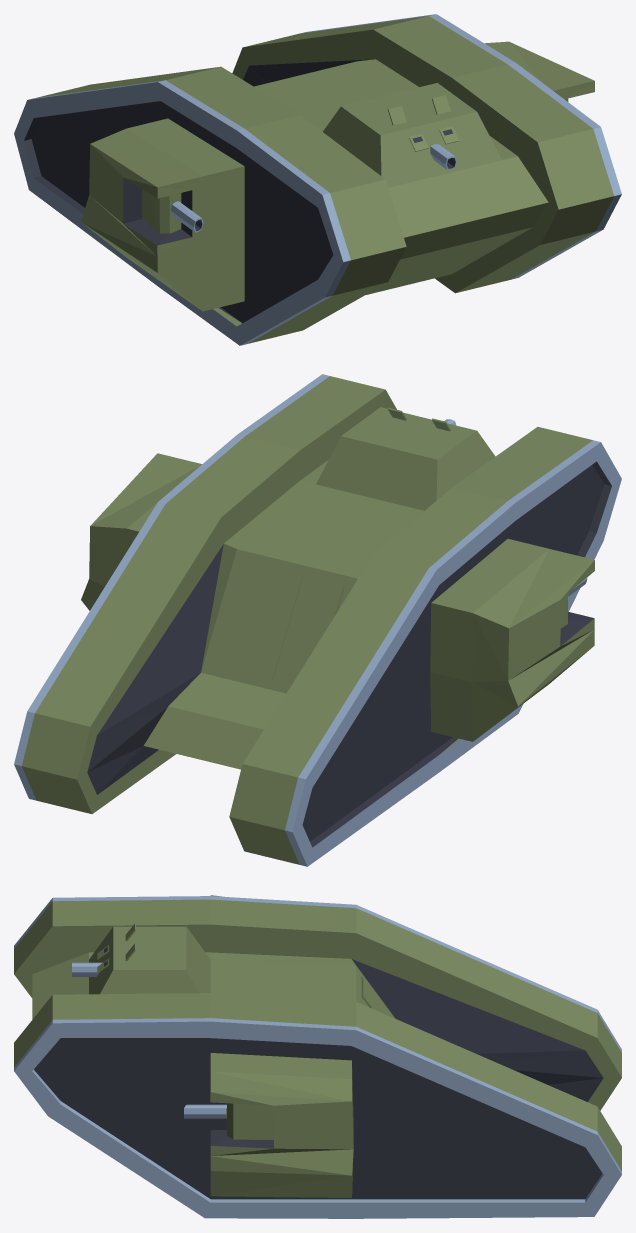
Rendered from markIVTank.fbx.
The picture shows the model from 3 angles, top to bottom: view 1: azimuth 30°, elevation 25°; view 2: azimuth 150°, elevation 25°; view 3: azimuth 270°, elevation 25°; orthographic projection. The views are drawn at different scales.
Parts seen in each view (by area): view 1: markIVTank; view 2: markIVTank; view 3: markIVTank.
Part boxes in pixels (left/top/right/bottom): markIVTank: left=14, top=14, right=621, bottom=345; markIVTank: left=14, top=374, right=621, bottom=866; markIVTank: left=14, top=895, right=621, bottom=1218.
Bounding box in the file's own units: 858 × 446 × 1119.
